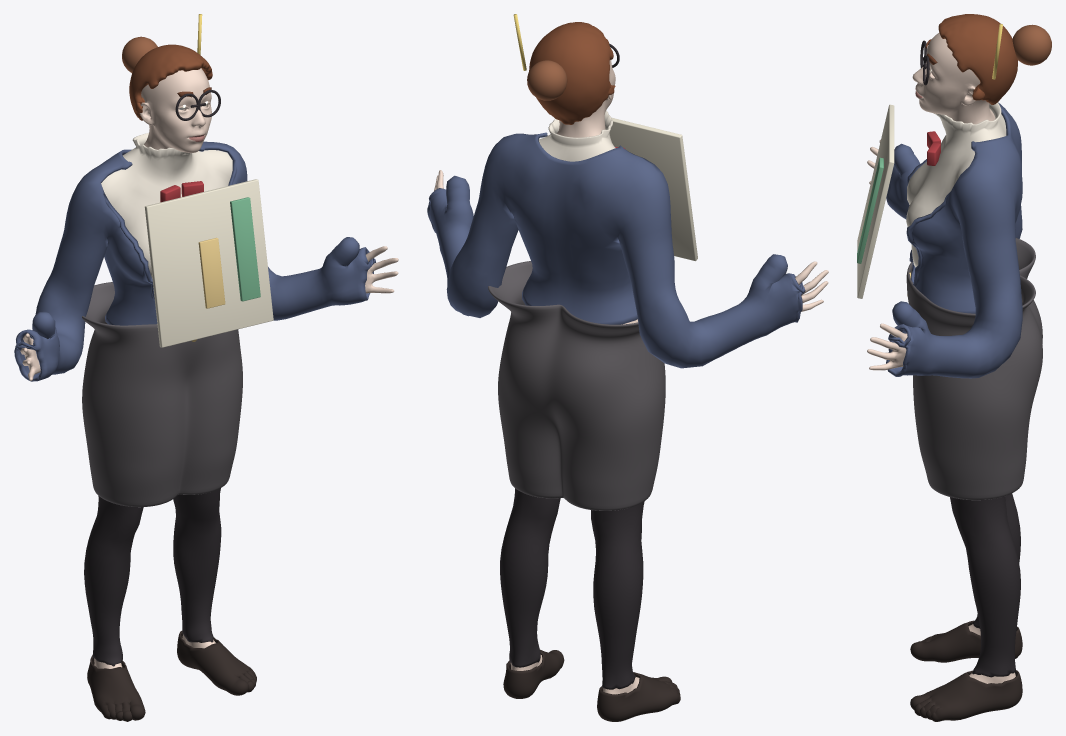
Rendered from juror_statistician.glb.
The picture shows the model from 3 angles, left to right: view 1: azimuth 30°, elevation 25°; view 2: azimuth 150°, elevation 25°; view 3: azimuth 270°, elevation 25°; orthographic projection. The views are drawn at different scales.
Parts seen in each view (by area): view 1: PencilSkirt, Cardigan, Board.001, Tights, Blouse, Body.003, Shoes.003, Scalp.002, Bar.005, Bar.004, Bun; view 2: Cardigan, PencilSkirt, Tights, Scalp.002, Board.001, Shoes.003, Body.003, Blouse, Bun; view 3: Cardigan, PencilSkirt, Tights, Shoes.003, Body.003, Blouse, Scalp.002, Board.001, Bun, Bar.005.
Boxes of the visible parts, bbox=[...] form: PencilSkirt: bbox=[82, 282, 242, 507]; Cardigan: bbox=[14, 141, 375, 381]; Board.001: bbox=[144, 179, 273, 347]; Tights: bbox=[84, 488, 221, 666]; Blouse: bbox=[101, 133, 232, 278]; Body.003: bbox=[20, 68, 398, 668]; Shoes.003: bbox=[87, 631, 256, 721]; Scalp.002: bbox=[129, 44, 212, 120]; Bar.005: bbox=[230, 197, 260, 301]; Bar.004: bbox=[198, 237, 225, 308]; Bun: bbox=[122, 36, 157, 72]; Cardigan: bbox=[427, 132, 805, 368]; PencilSkirt: bbox=[488, 261, 665, 510]; Tights: bbox=[500, 488, 644, 689]; Scalp.002: bbox=[529, 22, 615, 124]; Board.001: bbox=[609, 117, 697, 261]; Shoes.003: bbox=[503, 649, 680, 721]; Body.003: bbox=[434, 60, 828, 694]; Blouse: bbox=[539, 110, 615, 161]; Bun: bbox=[527, 60, 567, 100]; Cardigan: bbox=[886, 102, 1022, 378]; PencilSkirt: bbox=[906, 238, 1042, 500]; Tights: bbox=[950, 304, 1022, 677]; Shoes.003: bbox=[910, 620, 1022, 721]; Body.003: bbox=[867, 33, 1015, 683]; Blouse: bbox=[906, 102, 1006, 267]; Scalp.002: bbox=[938, 14, 1017, 104]; Board.001: bbox=[857, 104, 894, 298]; Bun: bbox=[1012, 24, 1051, 65]; Bar.005: bbox=[857, 157, 883, 263].
Bounding box in the file's own units: 1 × 1.67 × 0.4296.
